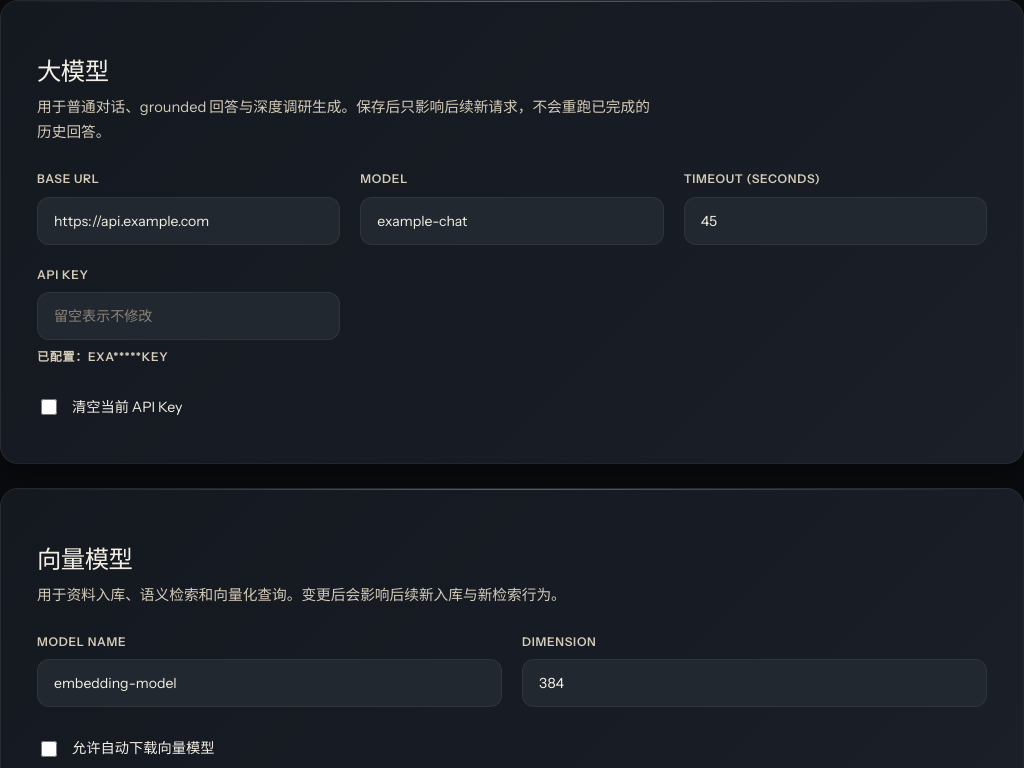
Test case: SettingsPageClient › submits updated settings and shows success feedback
This screenshot has width=1024, height=768.
Replace the text in the field showing "example-chat" with "next-chat" at (512, 221), box [360, 197, 664, 245]
(page scrolled)
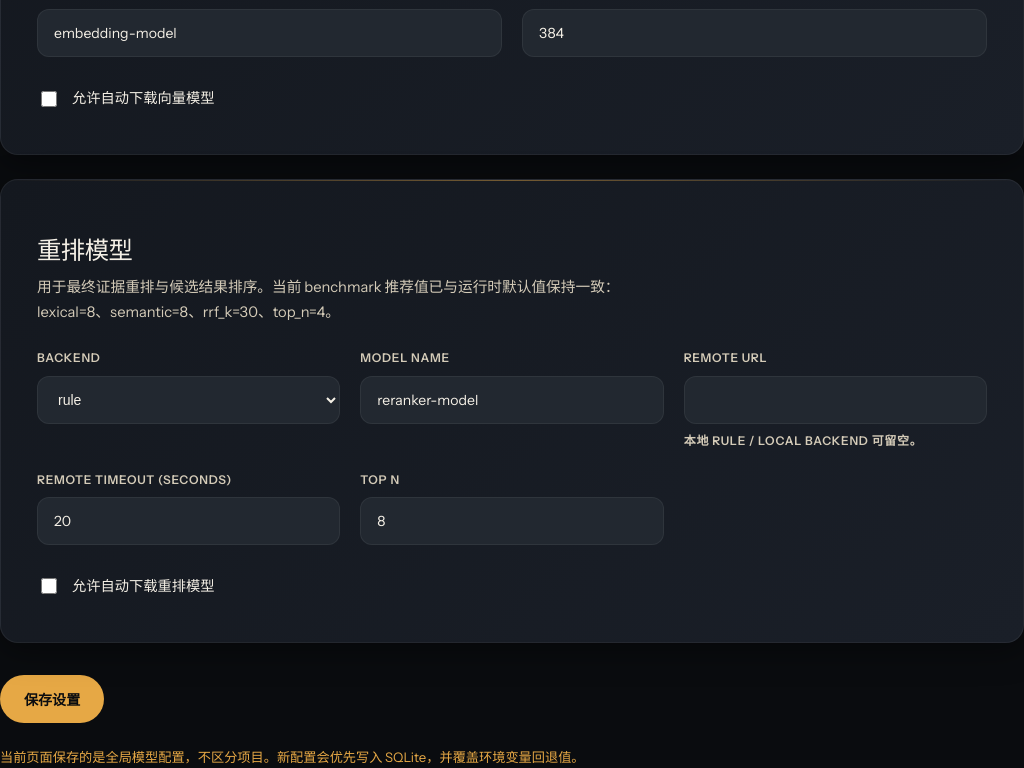
Click the button "保存设置" at (52, 699), box [0, 675, 104, 723]
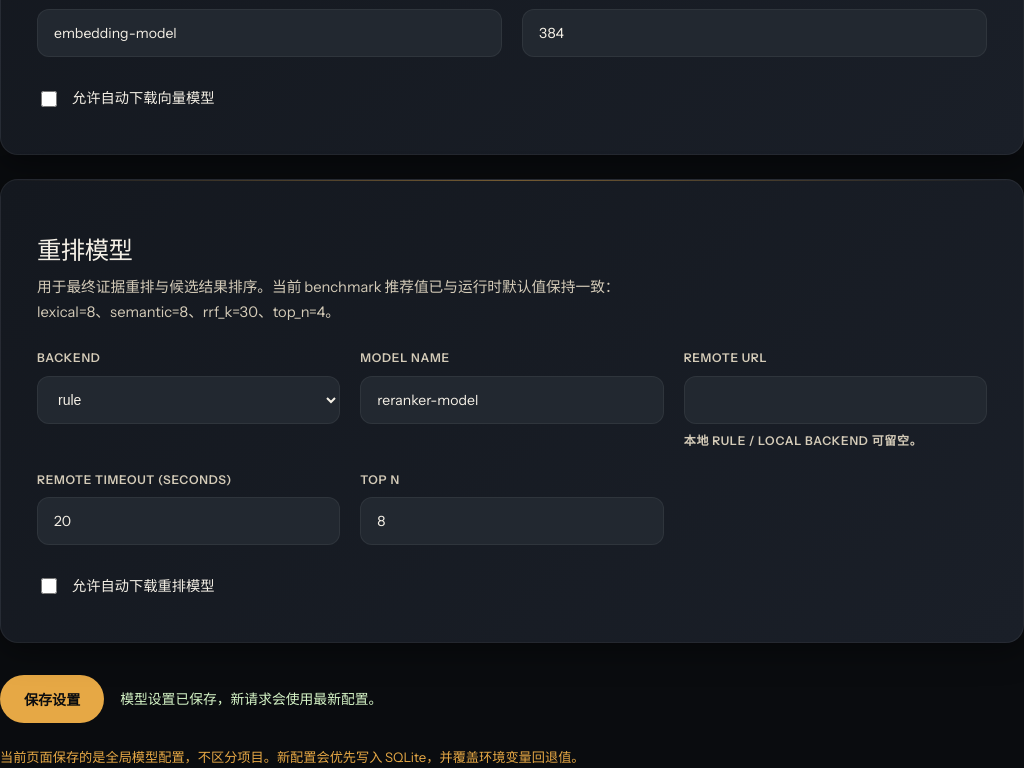
Expected: the text "模型设置已保存，新请求会使用最新配置。" is shown, [120, 688, 382, 710]
